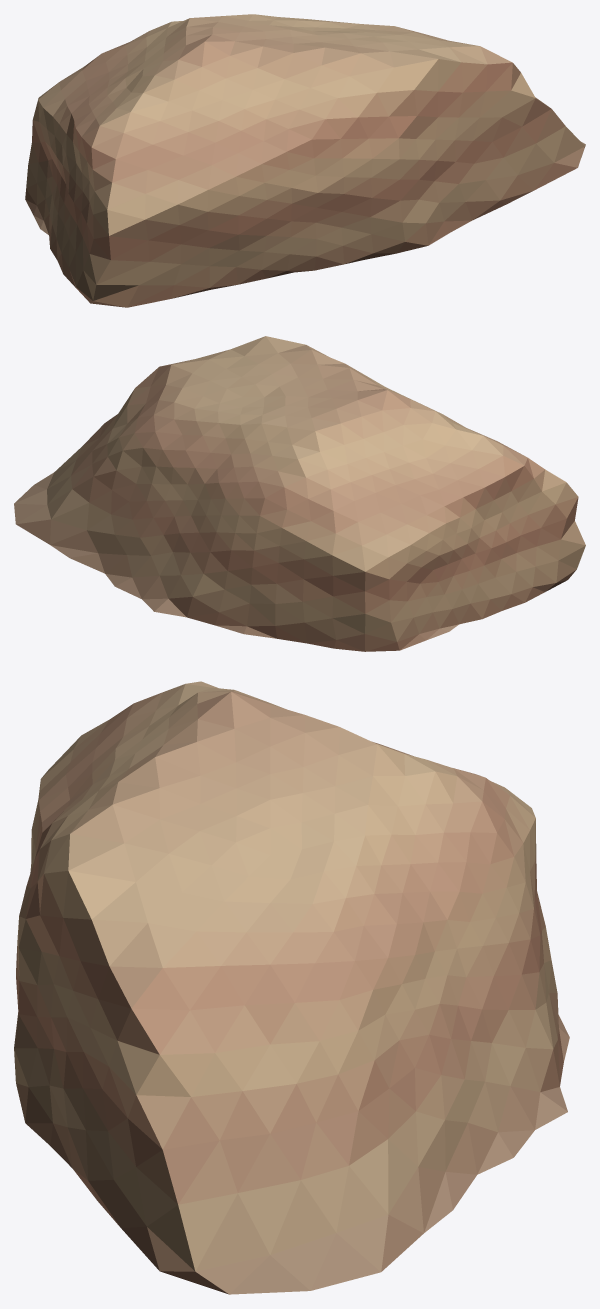
Rendered from rock_3.glb.
The picture shows the model from 3 angles, top to bottom: view 1: azimuth 30°, elevation 25°; view 2: azimuth 150°, elevation 25°; view 3: azimuth 270°, elevation 25°; orthographic projection. The views are drawn at different scales.
Visible parts, largest first — view 1: rock; view 2: rock; view 3: rock.
Part boxes in pixels (bbox=[...]): rock: bbox=[25, 14, 585, 307]; rock: bbox=[14, 336, 585, 651]; rock: bbox=[14, 681, 569, 1294].
Size of the model in its own units: 2.6 by 0.8965 by 1.5.
